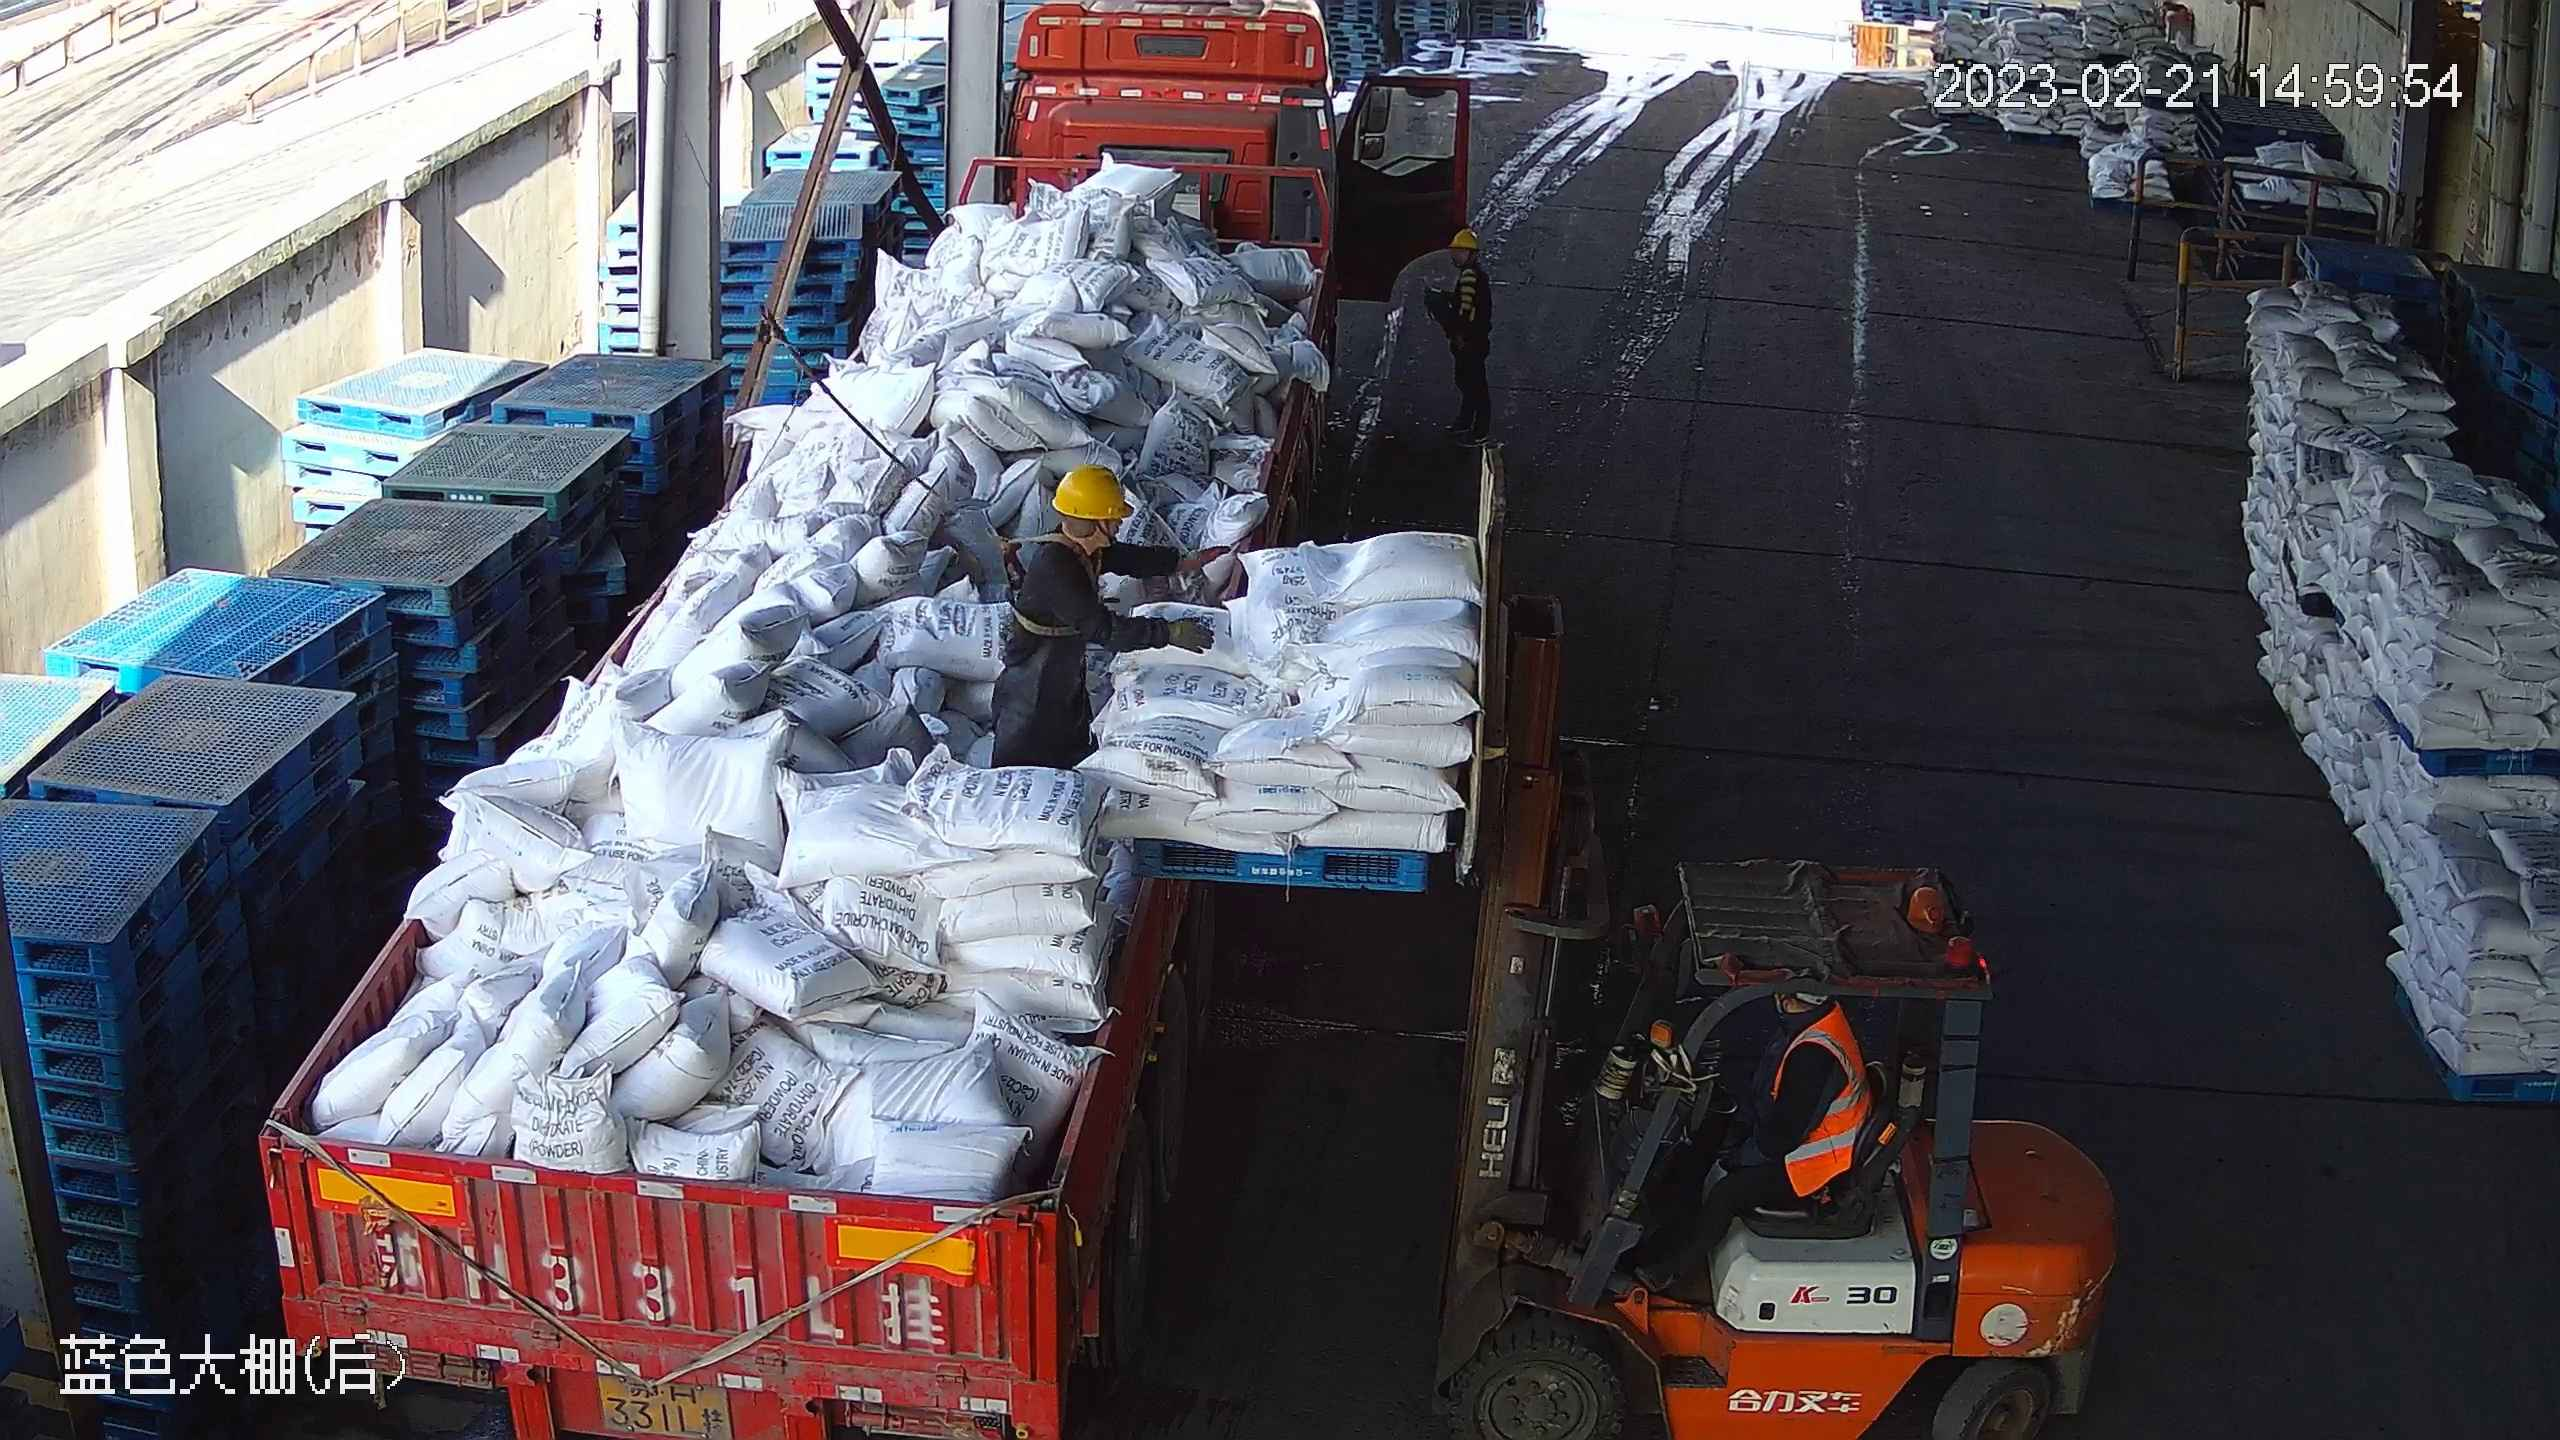belt: (991, 528, 1102, 638)
head: (1022, 465, 1136, 596), (1448, 228, 1497, 288)
helmet: (1048, 464, 1136, 523), (1448, 228, 1482, 251)
people: (990, 463, 1231, 771), (1635, 988, 1877, 1292), (1423, 227, 1496, 448)
truck: (262, 1, 1470, 1440)
